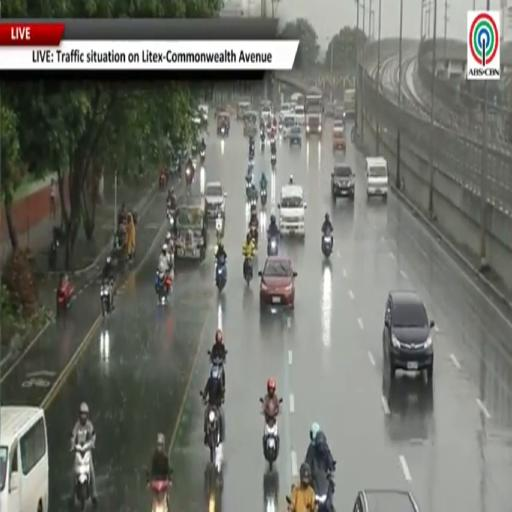car: (383, 291, 434, 380), (259, 255, 296, 309), (277, 185, 306, 236), (353, 490, 419, 511), (366, 157, 388, 199), (331, 164, 354, 201), (204, 182, 226, 218), (282, 114, 296, 139), (288, 125, 302, 148), (333, 104, 346, 122), (295, 105, 305, 125), (198, 104, 209, 121), (280, 103, 290, 119)
jeepney: (175, 198, 207, 261), (332, 121, 345, 151), (244, 111, 257, 136), (217, 111, 230, 136), (237, 102, 251, 120)
motorcycle: (206, 406, 223, 474), (74, 442, 91, 510), (264, 412, 279, 471), (313, 471, 333, 511), (208, 350, 227, 389), (149, 480, 169, 511), (57, 281, 74, 316), (156, 272, 171, 305), (101, 280, 112, 316), (216, 258, 227, 292), (48, 239, 59, 270), (322, 230, 333, 258), (243, 258, 253, 286), (216, 213, 223, 245), (267, 236, 278, 255), (250, 224, 258, 249), (245, 175, 253, 200), (249, 189, 257, 211), (167, 208, 175, 229), (186, 168, 193, 188), (159, 173, 166, 189), (260, 188, 266, 205), (261, 131, 265, 152), (271, 153, 276, 169), (249, 147, 254, 162), (200, 149, 205, 163), (270, 135, 276, 146), (278, 122, 283, 132), (221, 125, 225, 136)
truck: (305, 88, 323, 135), (344, 89, 355, 119)
